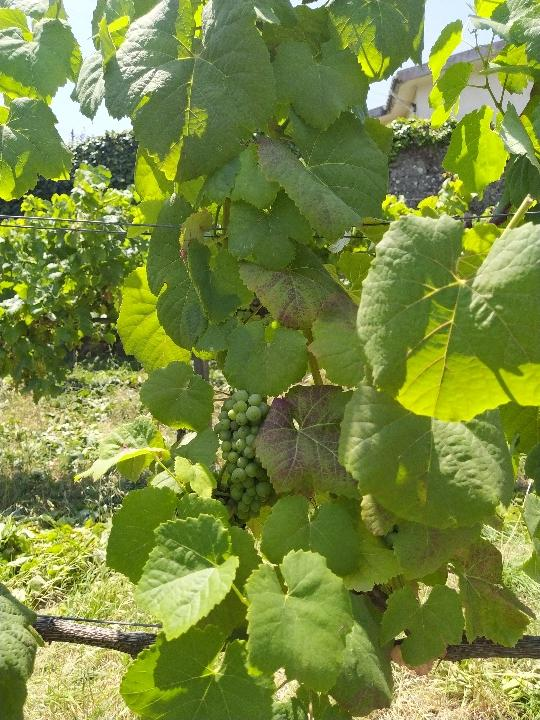grape: (213, 386, 277, 523)
